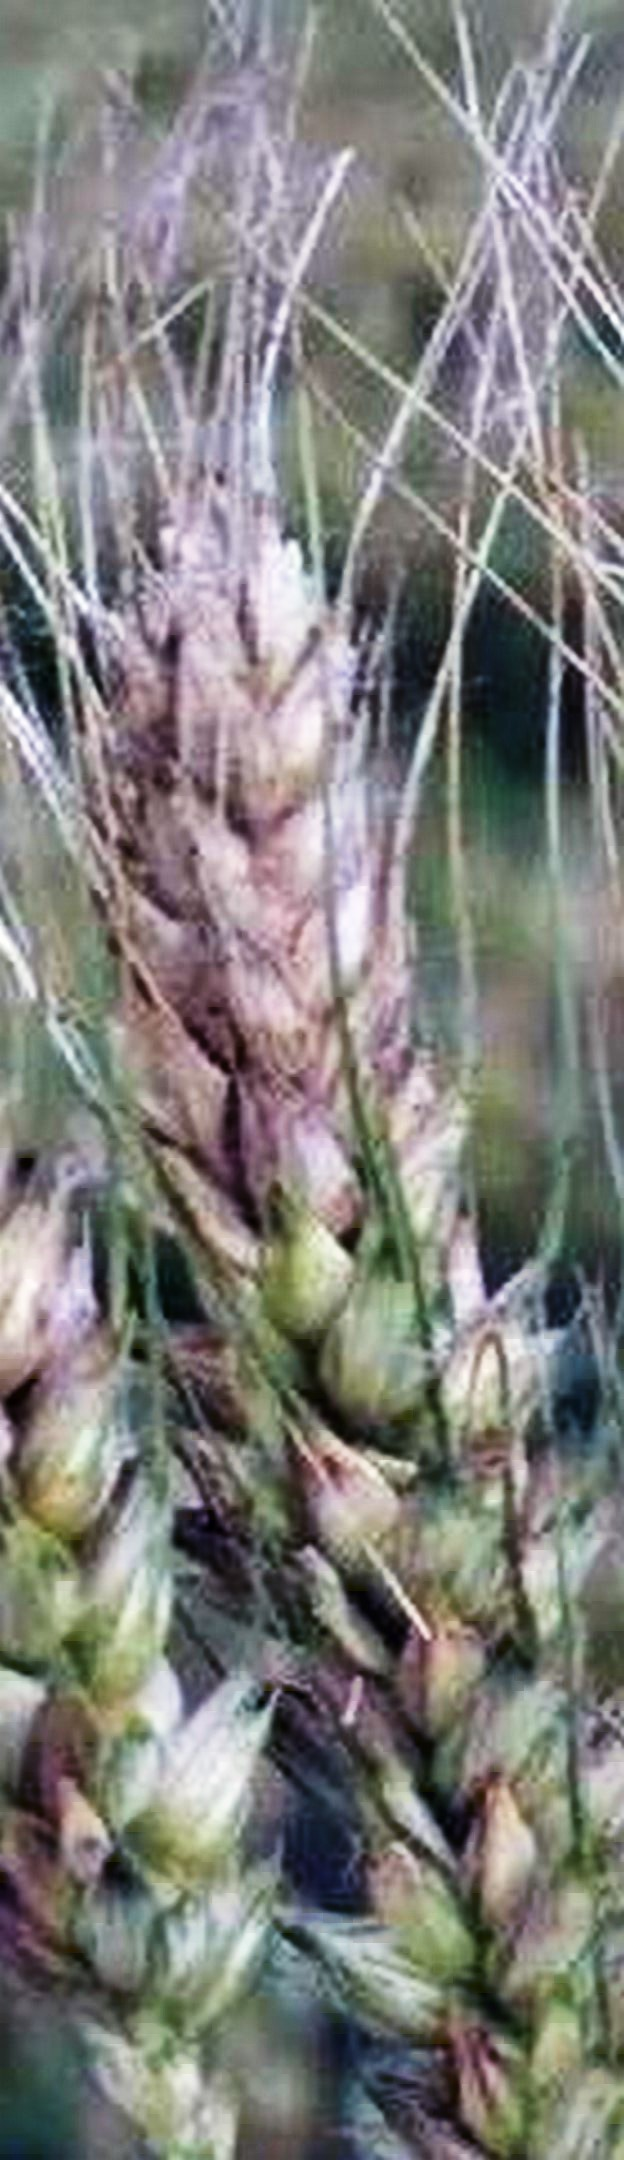Wheat scab: (50, 428, 624, 1982)
